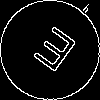E: (25, 25, 79, 82)
